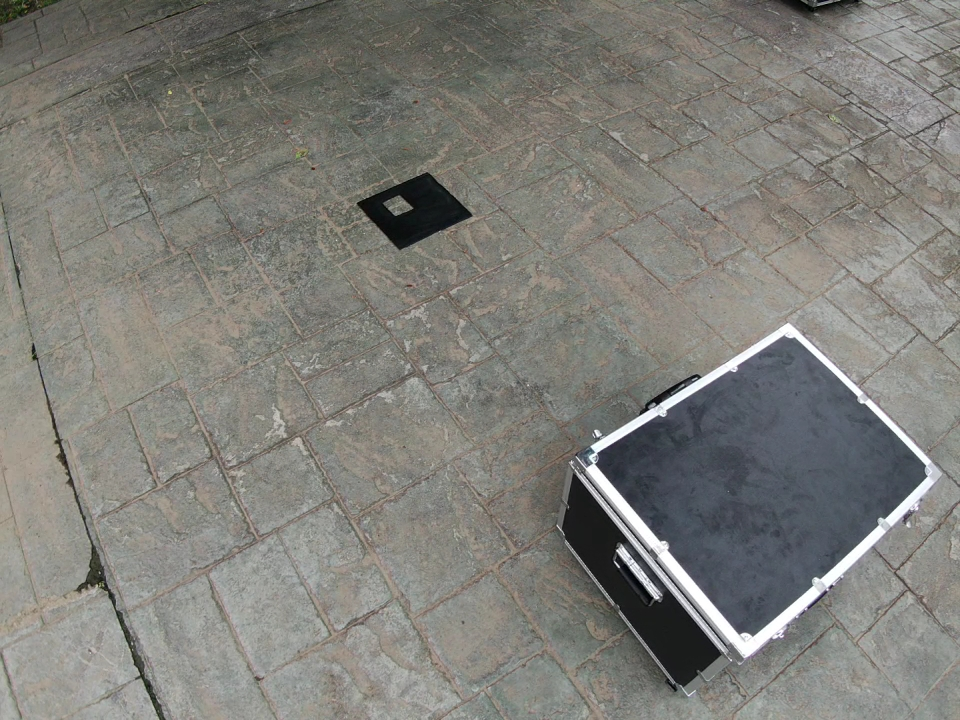box: (556, 322, 943, 698)
qrcode: (357, 172, 473, 250)
